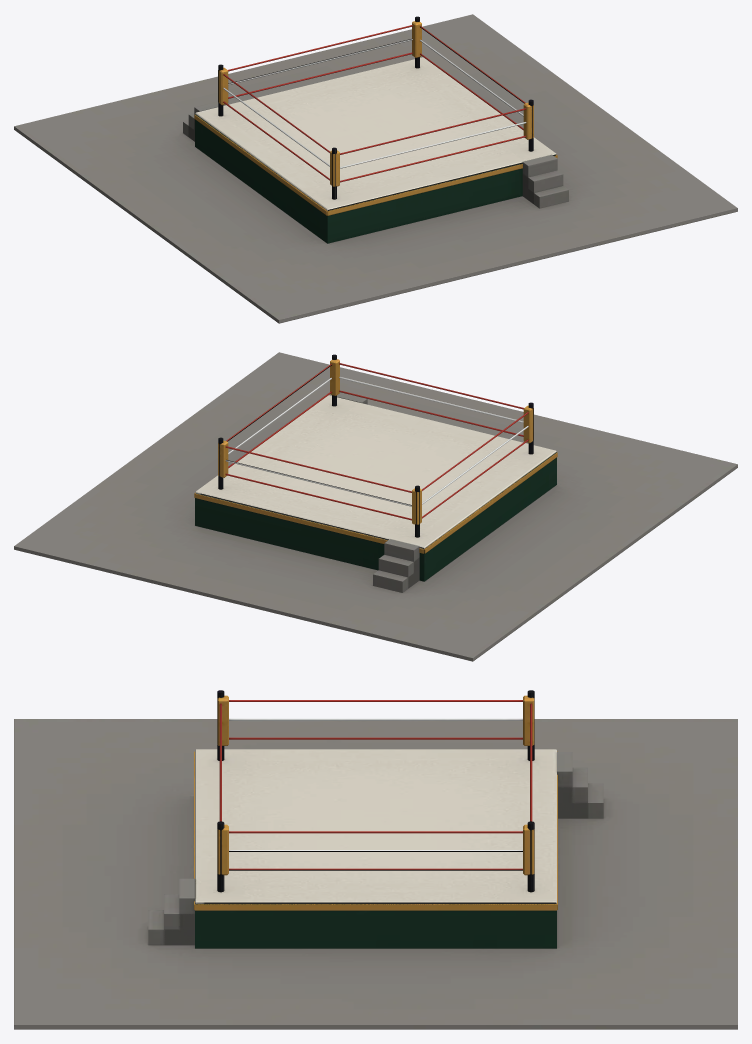
The model's file is ring.glb.
The picture shows the model from 3 angles, top to bottom: view 1: azimuth 30°, elevation 25°; view 2: azimuth 150°, elevation 25°; view 3: azimuth 270°, elevation 25°; orthographic projection. The views are drawn at different scales.
Parts seen in each view (by area): view 1: ring; view 2: ring; view 3: ring.
Part boxes in pixels (x1=…): ring: x1=14, y1=14, x2=737, y2=323; ring: x1=14, y1=352, x2=737, y2=661; ring: x1=14, y1=690, x2=737, y2=1029.
Size of the model in its own units: 14 by 2.55 by 14.
1 material, 1 textured.
